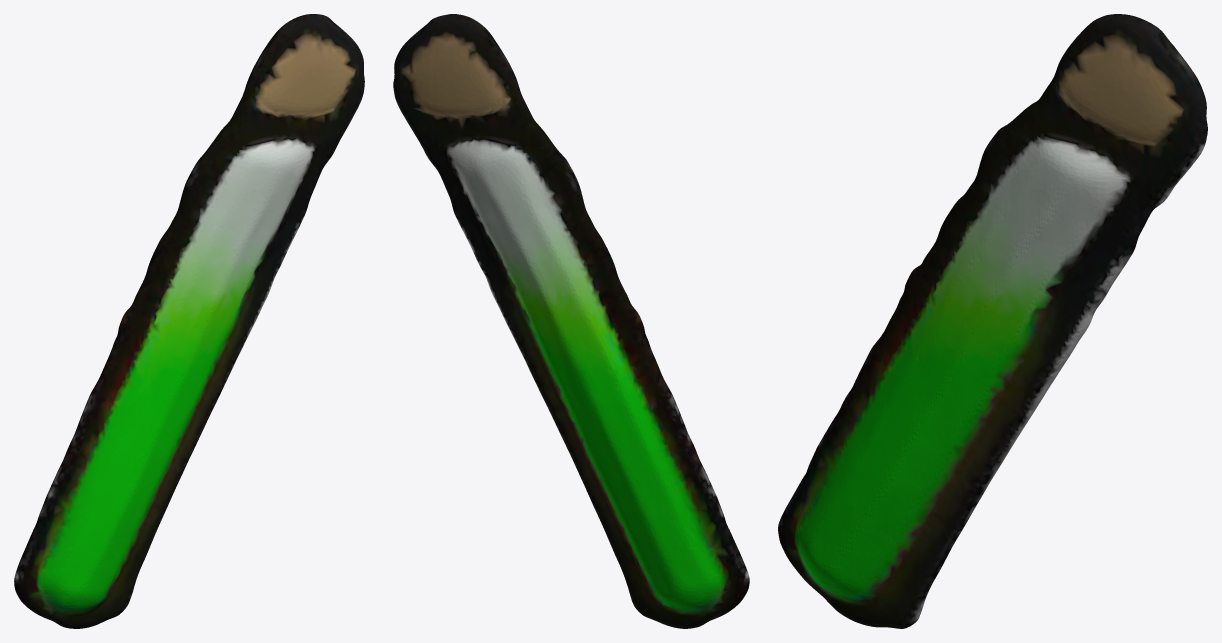
File: vial_green.glb
The picture shows the model from 3 angles, left to right: view 1: azimuth 30°, elevation 25°; view 2: azimuth 150°, elevation 25°; view 3: azimuth 330°, elevation 25°; orthographic projection. The views are drawn at different scales.
Parts seen in each view (by area): view 1: geometry_0; view 2: geometry_0; view 3: geometry_0.
Boxes of the visible parts, left/top/right/bottom form: geometry_0: left=14, top=14, right=364, bottom=628; geometry_0: left=393, top=14, right=749, bottom=628; geometry_0: left=778, top=14, right=1207, bottom=628.
Bounding box in the file's own units: 0.3438 × 0.5212 × 0.0462.
